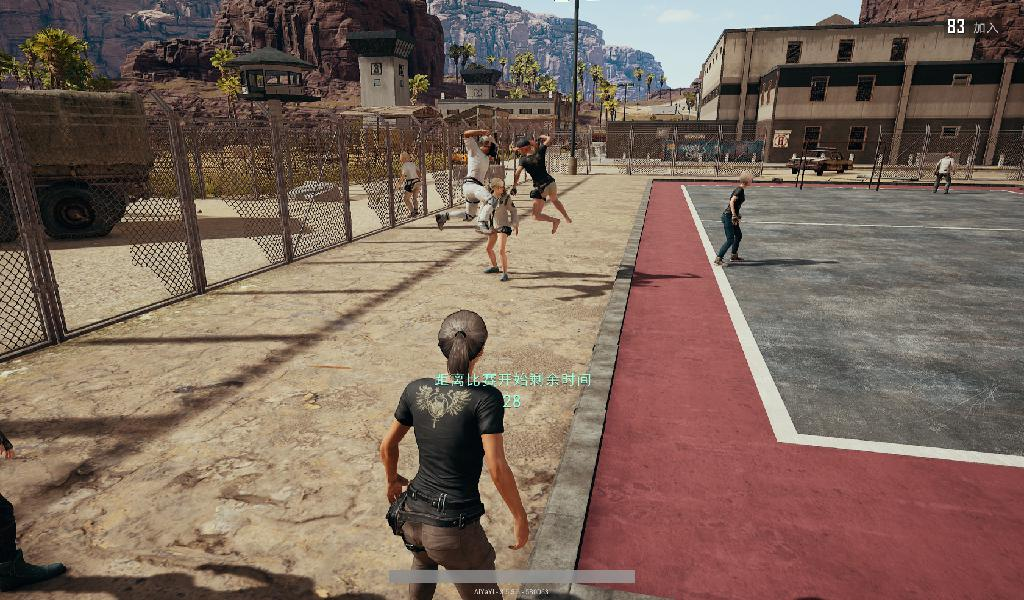Target Person: (375, 310, 507, 600), (503, 133, 573, 234), (433, 126, 494, 237), (475, 178, 520, 285), (713, 169, 754, 271), (394, 148, 422, 224), (931, 150, 954, 192)
